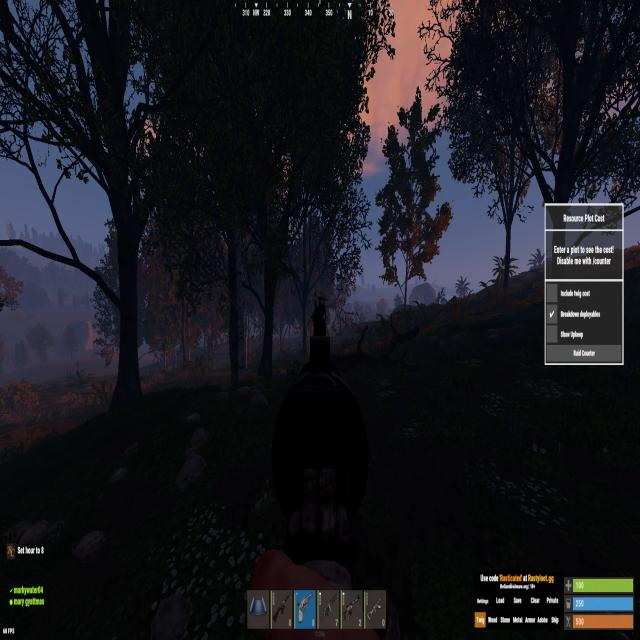Player: (310, 292, 330, 348)
